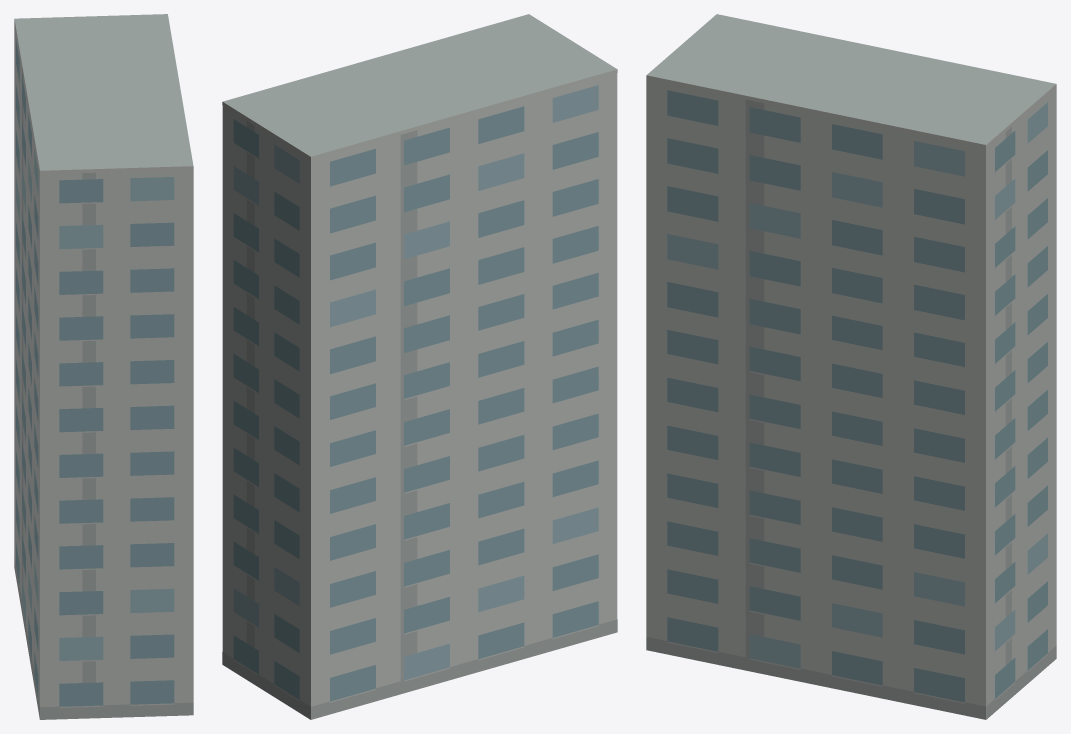
Rendered from residential-95d7f57e-8131-4235-bdcb-b34e84173c17.glb.
3 renders of one model, left to right at view 1: azimuth 30°, elevation 25°; view 2: azimuth 150°, elevation 25°; view 3: azimuth 270°, elevation 25°, orthographic. The views are drawn at different scales.
Parts seen in each view (by area): view 1: residential-95d7f57e-8131-4235-bdcb-b34e84173c17.tmp; view 2: residential-95d7f57e-8131-4235-bdcb-b34e84173c17.tmp; view 3: residential-95d7f57e-8131-4235-bdcb-b34e84173c17.tmp.
Boxes of the visible parts, left/top/right/bottom form: residential-95d7f57e-8131-4235-bdcb-b34e84173c17.tmp: left=14, top=14, right=193, bottom=719; residential-95d7f57e-8131-4235-bdcb-b34e84173c17.tmp: left=222, top=14, right=617, bottom=719; residential-95d7f57e-8131-4235-bdcb-b34e84173c17.tmp: left=646, top=14, right=1056, bottom=719.
Bounding box in the file's own units: 17.9 × 36.6 × 23.68.
